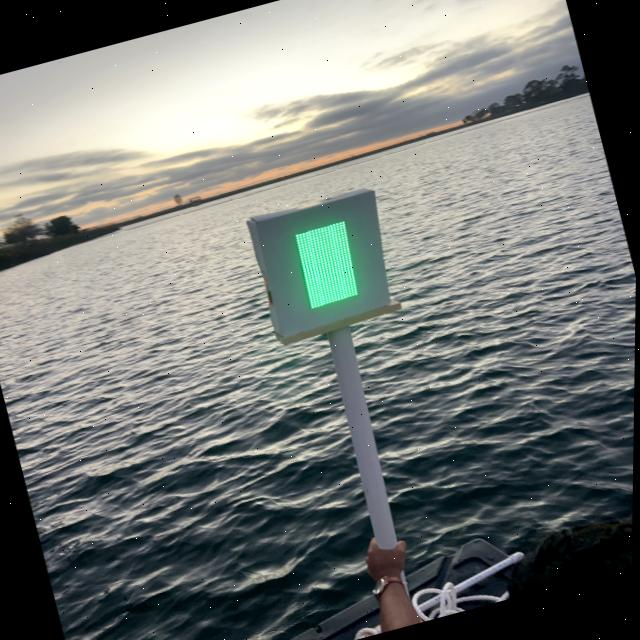led: (271, 200, 384, 326)
